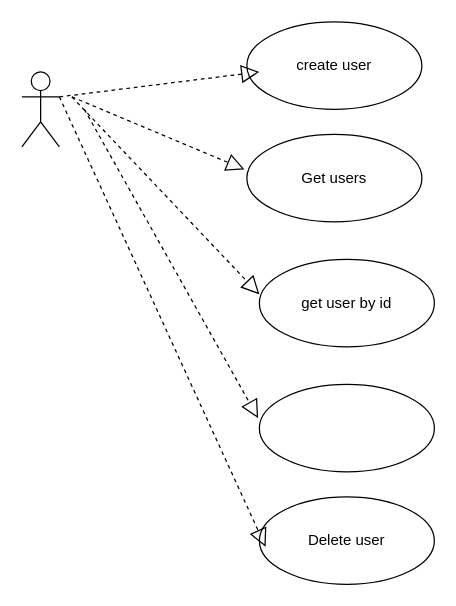
Image size: 456x606. Some labels were removed from this diagram. Each missing label, with the centre of its shape:
Actor: (40,109)
update user: (346,427)
